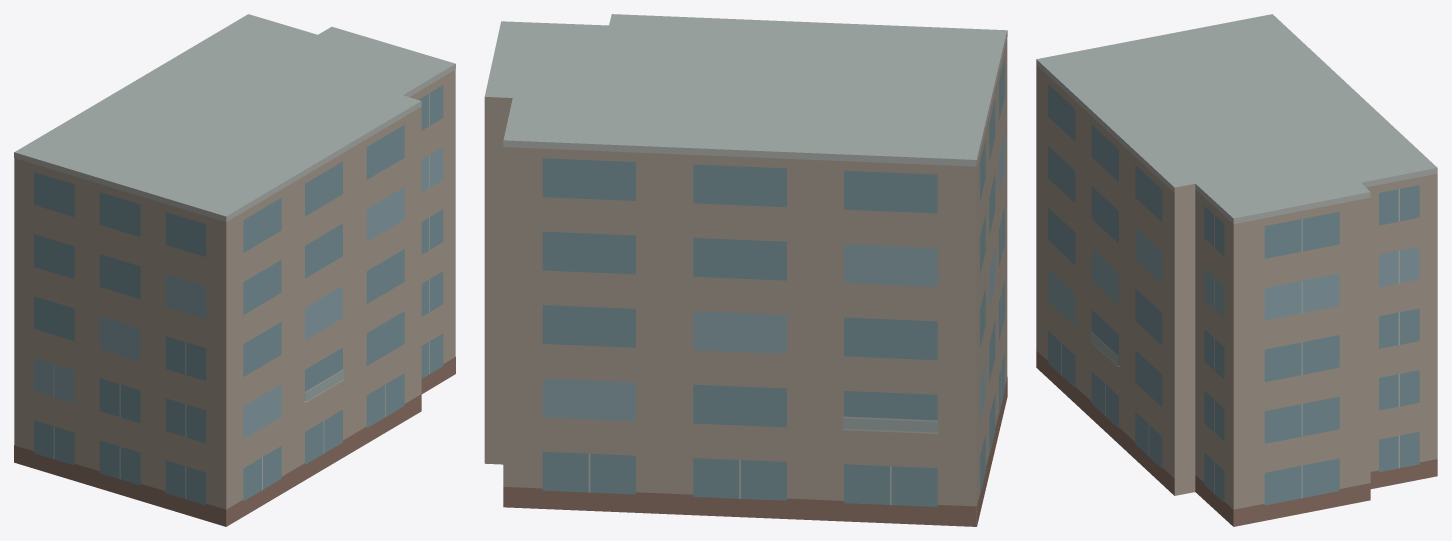
File: survey-upis-32974111.glb
The picture shows the model from 3 angles, left to right: view 1: azimuth 30°, elevation 25°; view 2: azimuth 150°, elevation 25°; view 3: azimuth 270°, elevation 25°; orthographic projection. The views are drawn at different scales.
Parts seen in each view (by area): view 1: survey-upis-32974111.tmp; view 2: survey-upis-32974111.tmp; view 3: survey-upis-32974111.tmp.
Boxes of the visible parts, x1,y1,x2,y2 form: survey-upis-32974111.tmp: [14, 14, 455, 526]; survey-upis-32974111.tmp: [484, 14, 1007, 526]; survey-upis-32974111.tmp: [1036, 14, 1437, 526].
Size of the model in its own units: 18.93 by 13.3 by 15.7.
